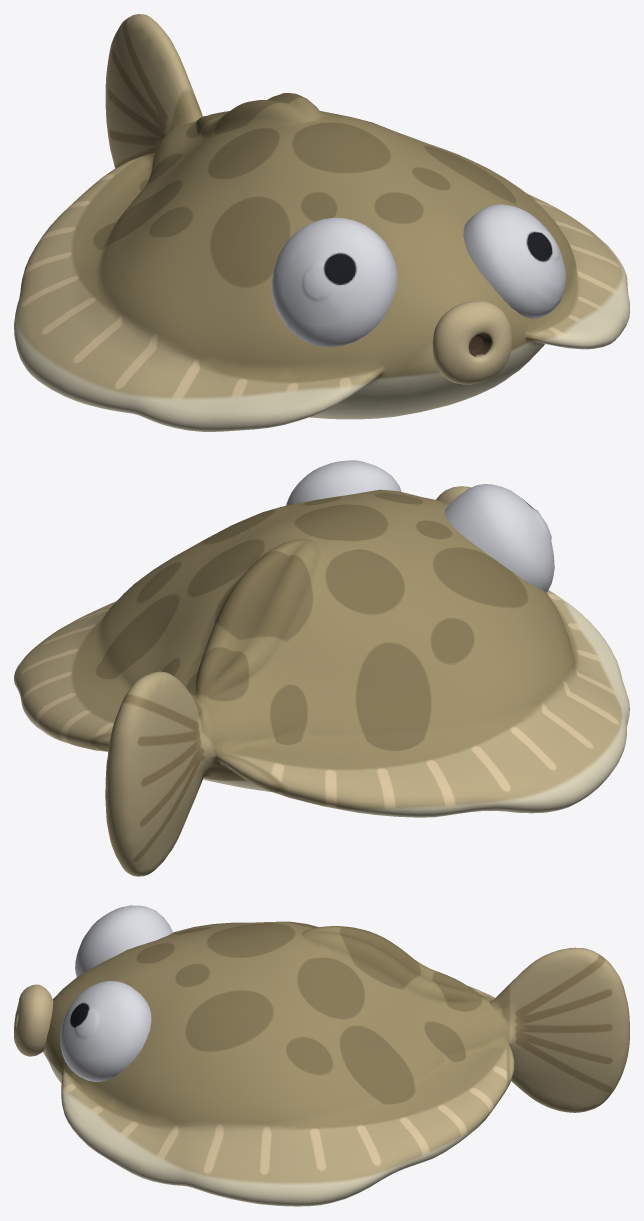
The model's file is flatfish_colored.obj.
3 renders of one model, top to bottom at view 1: azimuth 30°, elevation 25°; view 2: azimuth 150°, elevation 25°; view 3: azimuth 270°, elevation 25°, orthographic. The views are drawn at different scales.
Parts seen in each view (by area): view 1: flatfish_colored; view 2: flatfish_colored; view 3: flatfish_colored.
Boxes of the visible parts, x1=… form: flatfish_colored: x1=14, y1=14, x2=629, y2=431; flatfish_colored: x1=14, y1=460, x2=629, y2=876; flatfish_colored: x1=14, y1=905, x2=629, y2=1206.
Size of the model in its own units: 0.8657 by 0.3511 by 0.9995.
1 material, 1 textured.
